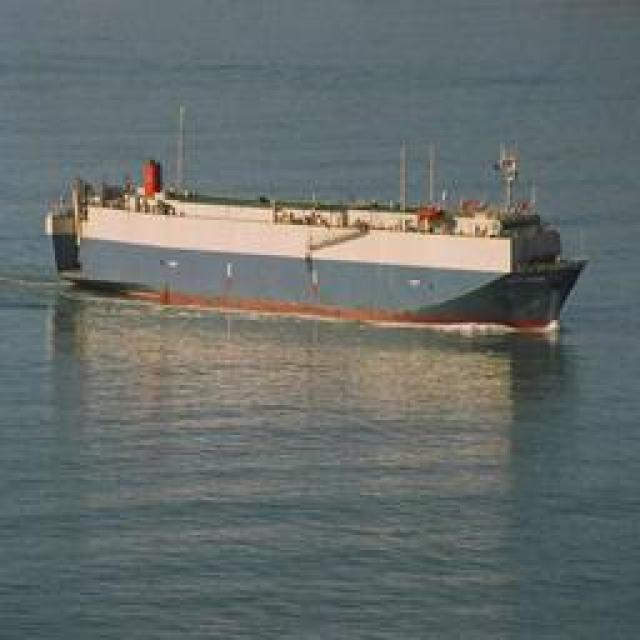ship2: (44, 104, 588, 333)
